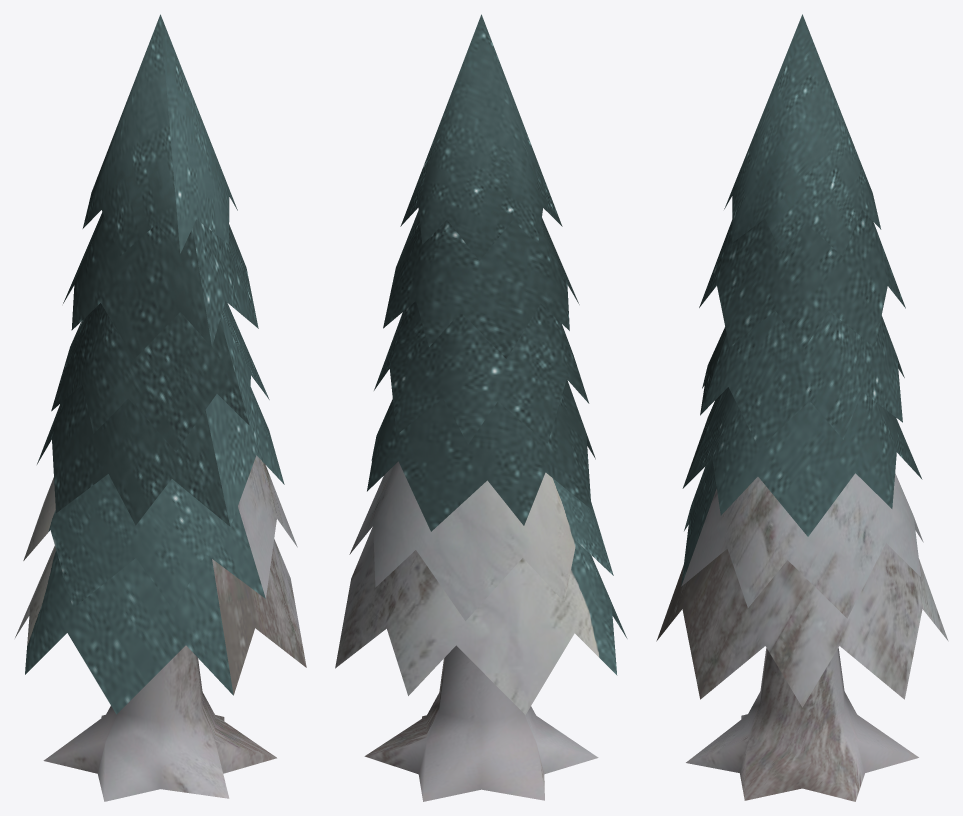
Rendered from Tree_1_v1_1.fbx.
The picture shows the model from 3 angles, left to right: view 1: azimuth 30°, elevation 25°; view 2: azimuth 150°, elevation 25°; view 3: azimuth 270°, elevation 25°; orthographic projection.
Parts seen in each view (by area): view 1: Tree_1; view 2: Tree_1; view 3: Tree_1.
Part boxes in pixels (x1=…): Tree_1: x1=15, y1=14, x2=306, y2=801; Tree_1: x1=335, y1=14, x2=627, y2=801; Tree_1: x1=656, y1=14, x2=948, y2=801.
Size of the model in its own units: 6 by 15.74 by 5.61.
1 material, 1 textured.
